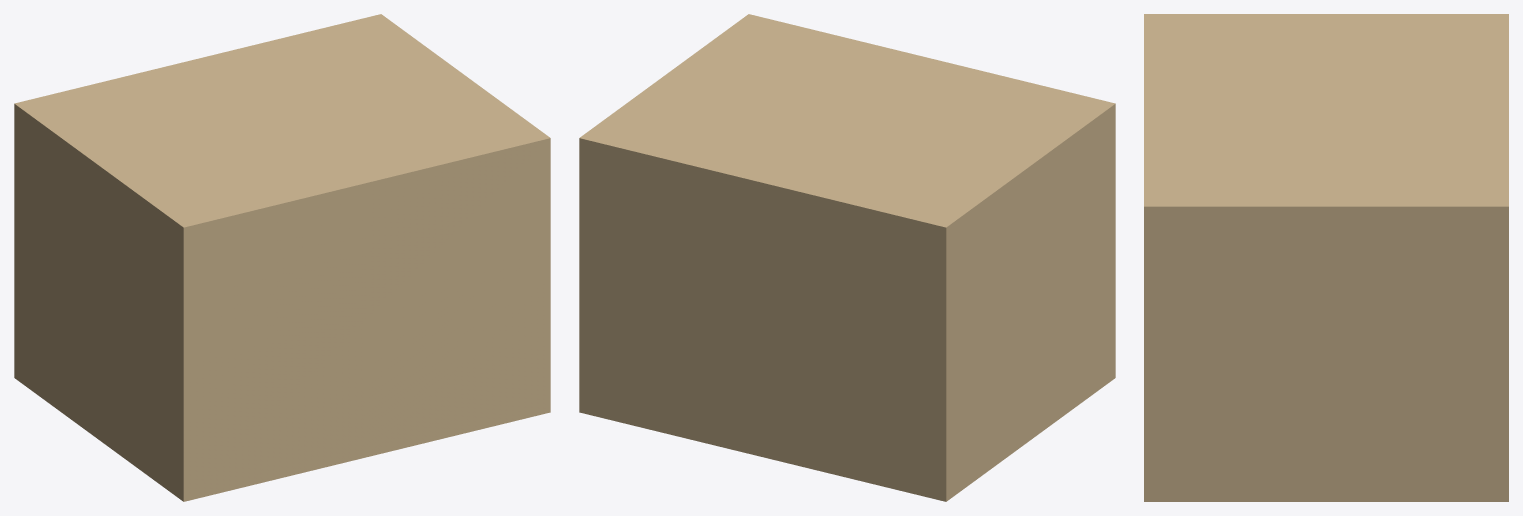
Rendered from 05_parcel.glb.
3 views of the same model, side by side, from view 1: azimuth 30°, elevation 25°; view 2: azimuth 150°, elevation 25°; view 3: azimuth 270°, elevation 25° (orthographic). The views are drawn at different scales.
Visible parts, largest first — view 1: generic_05_parcel; view 2: generic_05_parcel; view 3: generic_05_parcel.
Part boxes in pixels (bbox=[...]): generic_05_parcel: bbox=[14, 14, 550, 501]; generic_05_parcel: bbox=[579, 14, 1115, 501]; generic_05_parcel: bbox=[1144, 14, 1508, 501].
Bounding box in the file's own units: 0.35 × 0.25 × 0.28.
